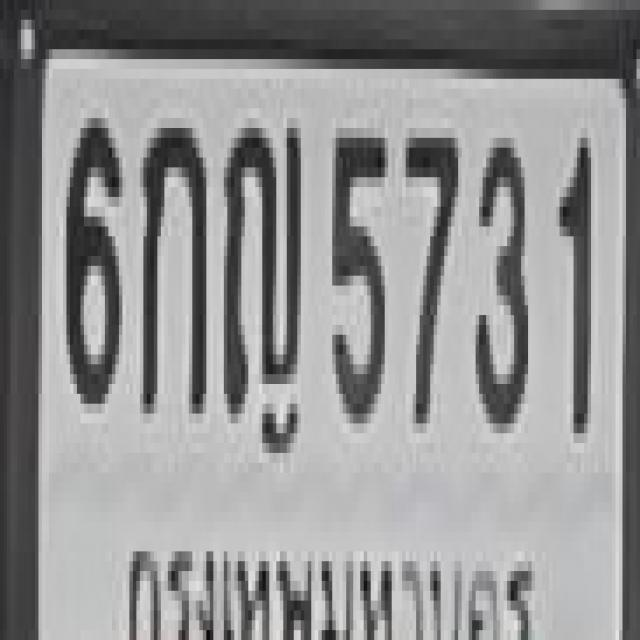-: (220, 113, 298, 409), (140, 118, 203, 404)
1: (556, 128, 588, 423)
3: (472, 128, 525, 423)
5: (328, 118, 384, 414)
6: (63, 108, 119, 394)
7: (402, 123, 455, 419)
